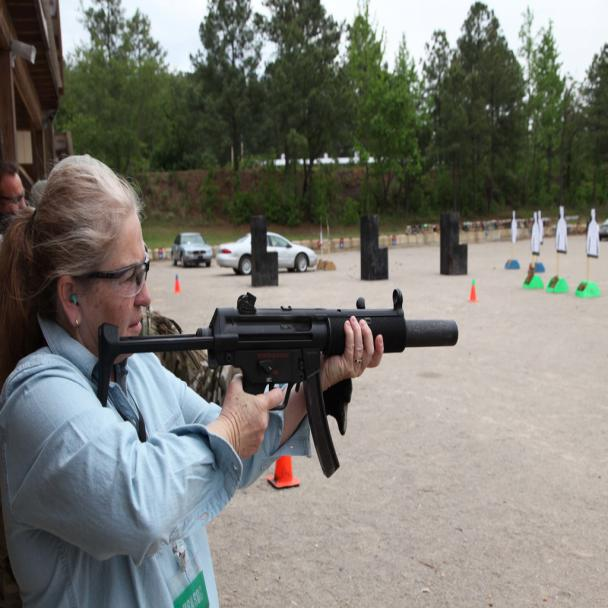Gun: (68, 291, 468, 387)
Hand: (212, 368, 290, 490), (319, 316, 391, 407)
